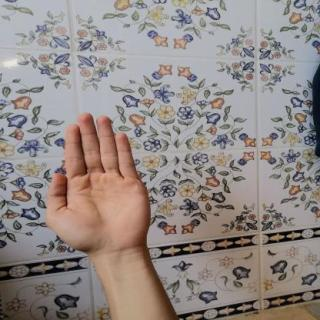SEEN: (36, 106, 160, 262)
